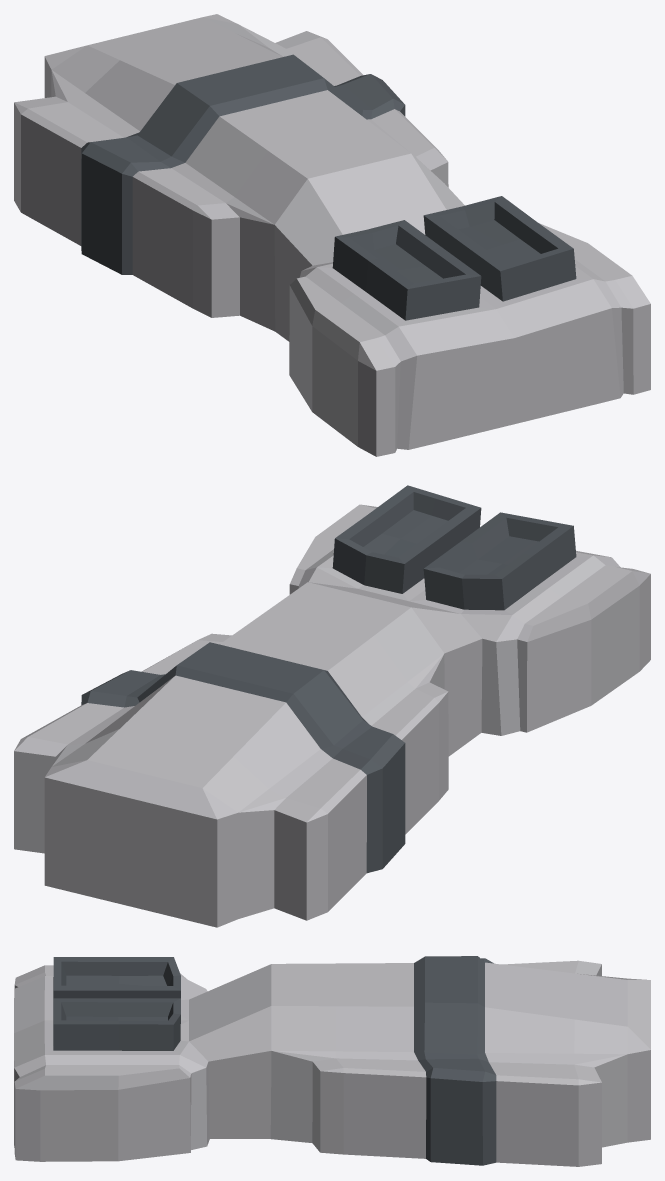
File: Fighter_10_Hatch.fbx
The picture shows the model from 3 angles, top to bottom: view 1: azimuth 30°, elevation 25°; view 2: azimuth 150°, elevation 25°; view 3: azimuth 270°, elevation 25°; orthographic projection. The views are drawn at different scales.
Parts seen in each view (by area): view 1: Fighter_10_Hatch; view 2: Fighter_10_Hatch; view 3: Fighter_10_Hatch.
Boxes of the visible parts, left/top/right/bottom form: Fighter_10_Hatch: left=14, top=14, right=650, bottom=456; Fighter_10_Hatch: left=14, top=485, right=650, bottom=927; Fighter_10_Hatch: left=14, top=956, right=650, bottom=1166.
Bounding box in the file's own units: 341 × 160 × 737.
Materials: 1 (1 with a texture image).
